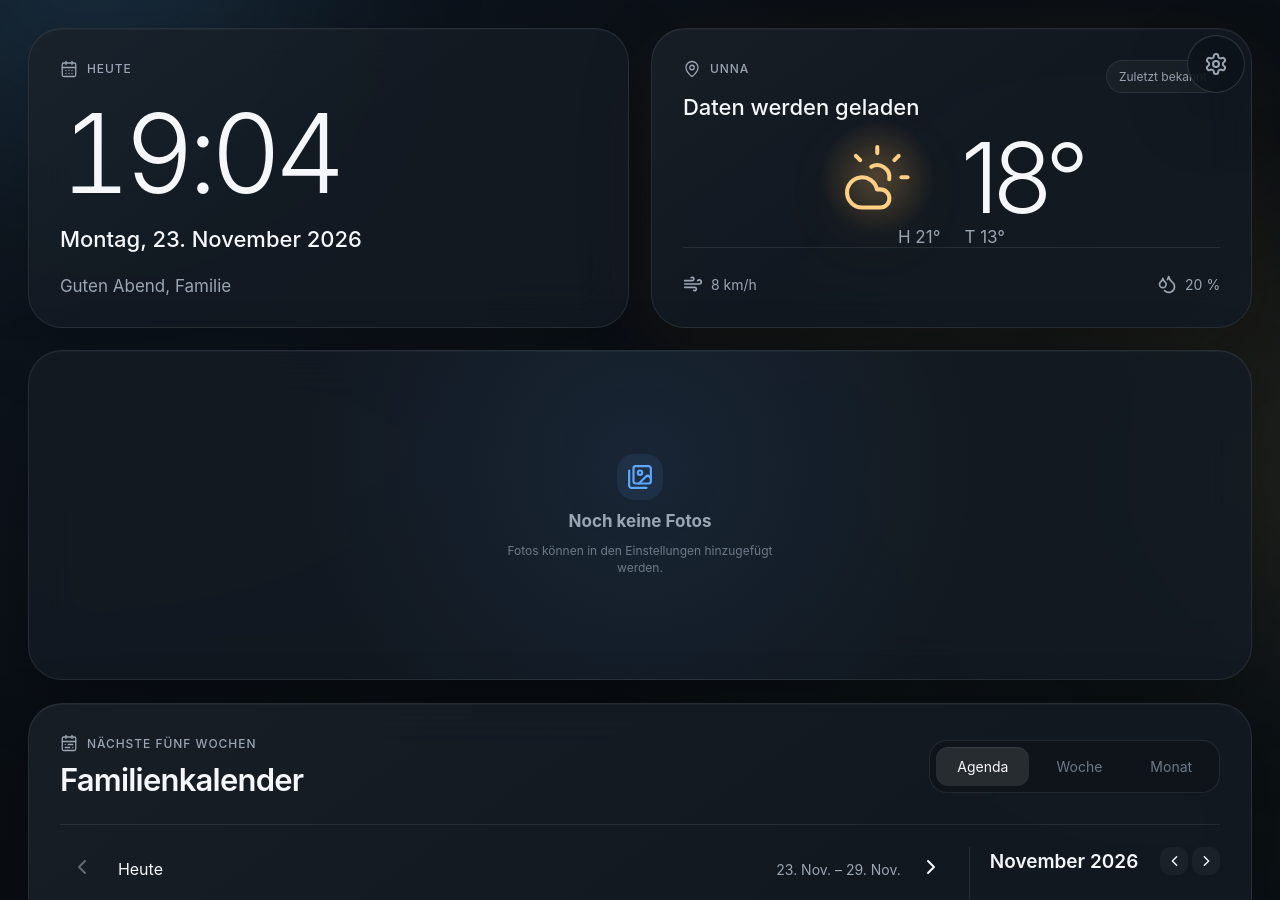
Test case: the sidebar links to the protected meal-plan settings page
The image size is (1280, 900).
Step 1. Click the button named "Einstellungen öffnen" → click(1216, 64), box top-left (1188, 34), bottom-right (1246, 92)
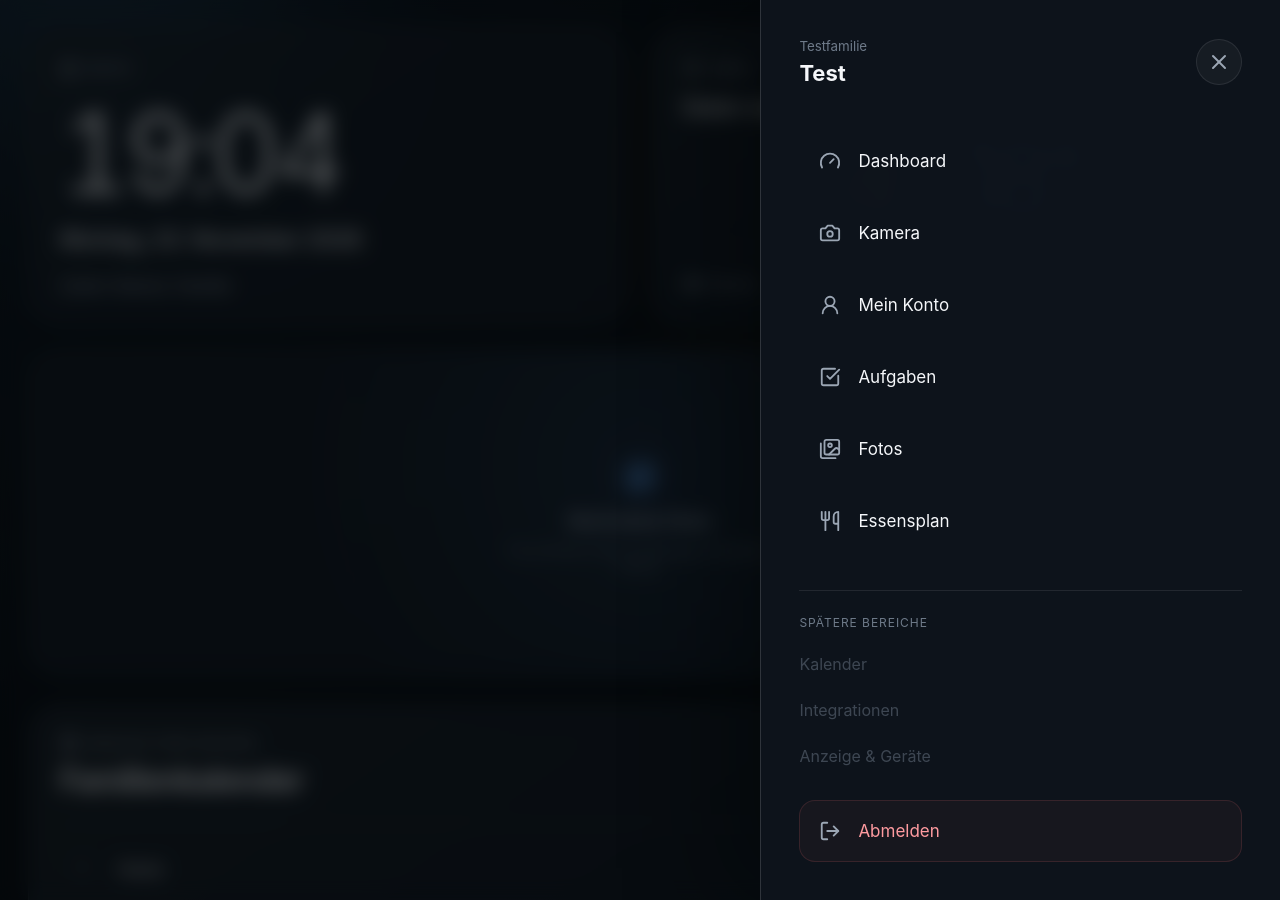
Step 2. Click the link "Essensplan" → click(884, 521), box top-left (819, 509), bottom-right (950, 533)
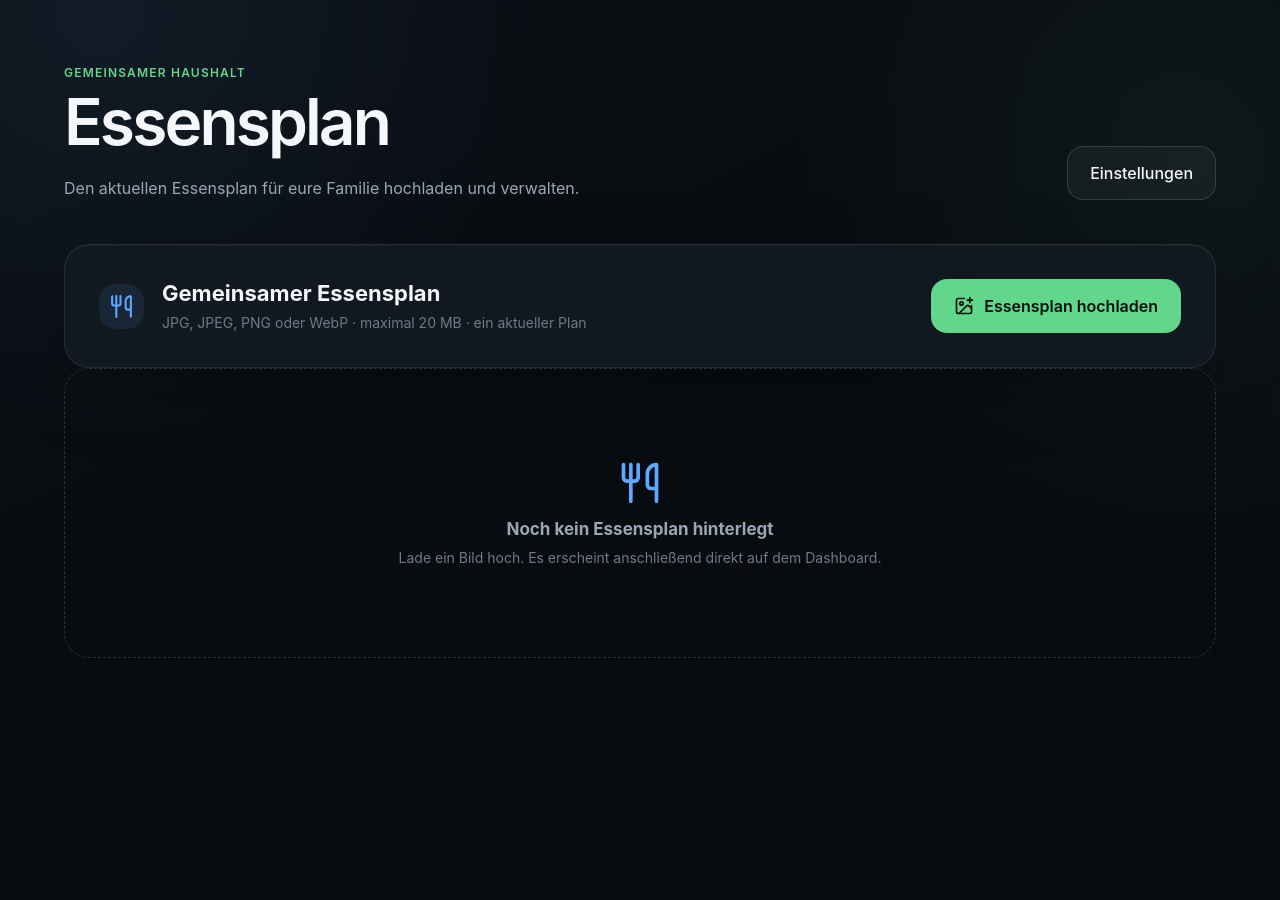
Expected: the heading "Essensplan" is shown, top-left (64, 83), bottom-right (389, 160)
